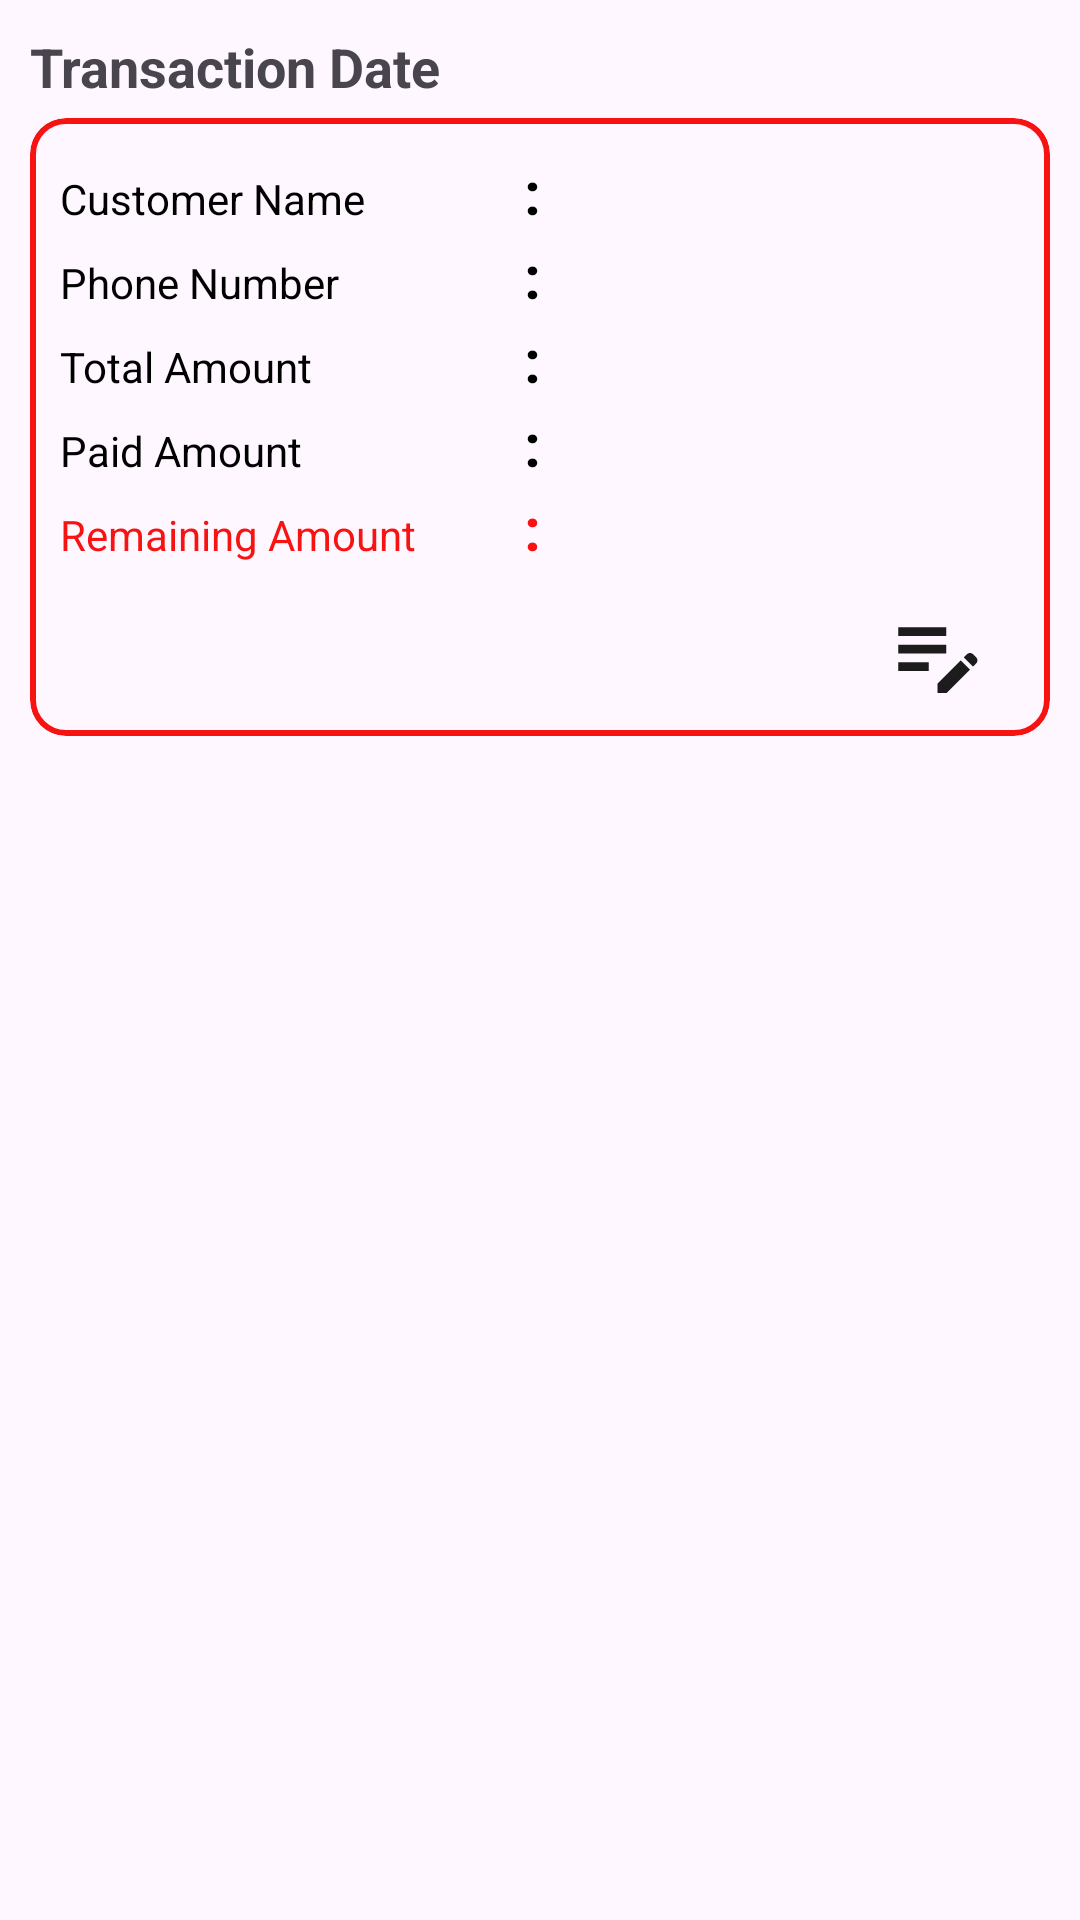

Where icons sit on this 1080x1920 app screen, as (x1, y1, x2, y2):
edit note: (898, 627, 978, 693)
